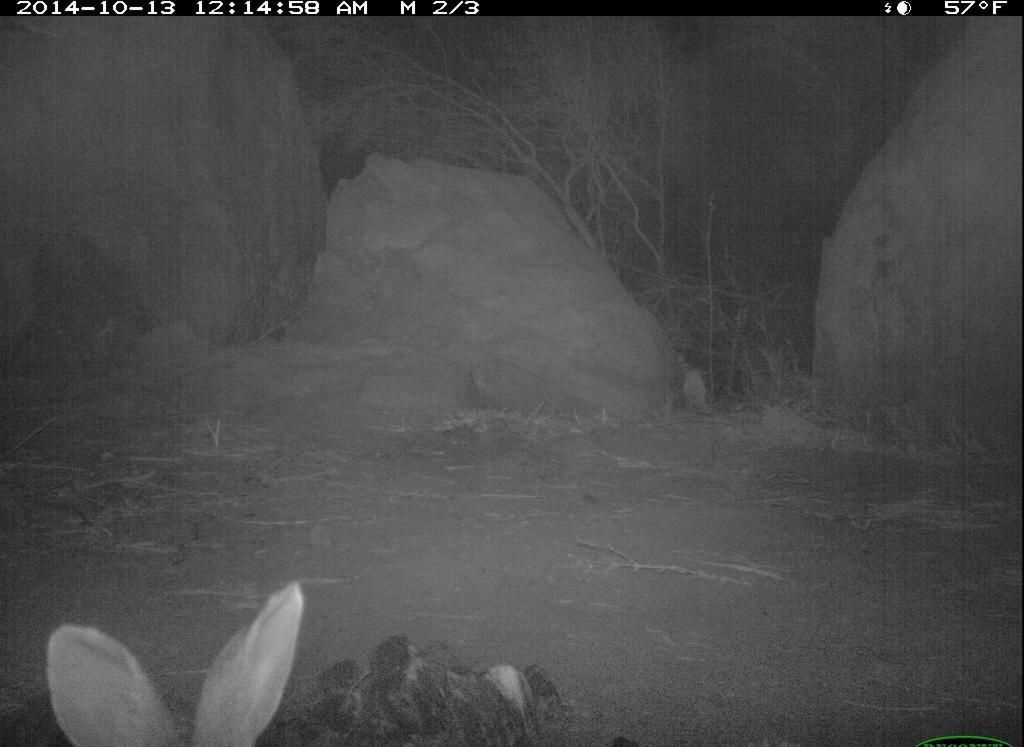rabbit: (49, 584, 308, 747)
